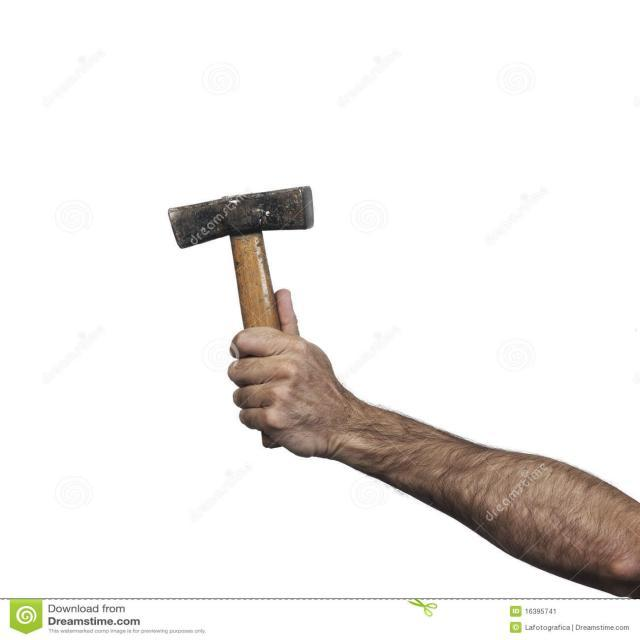hammer: (161, 175, 324, 452)
